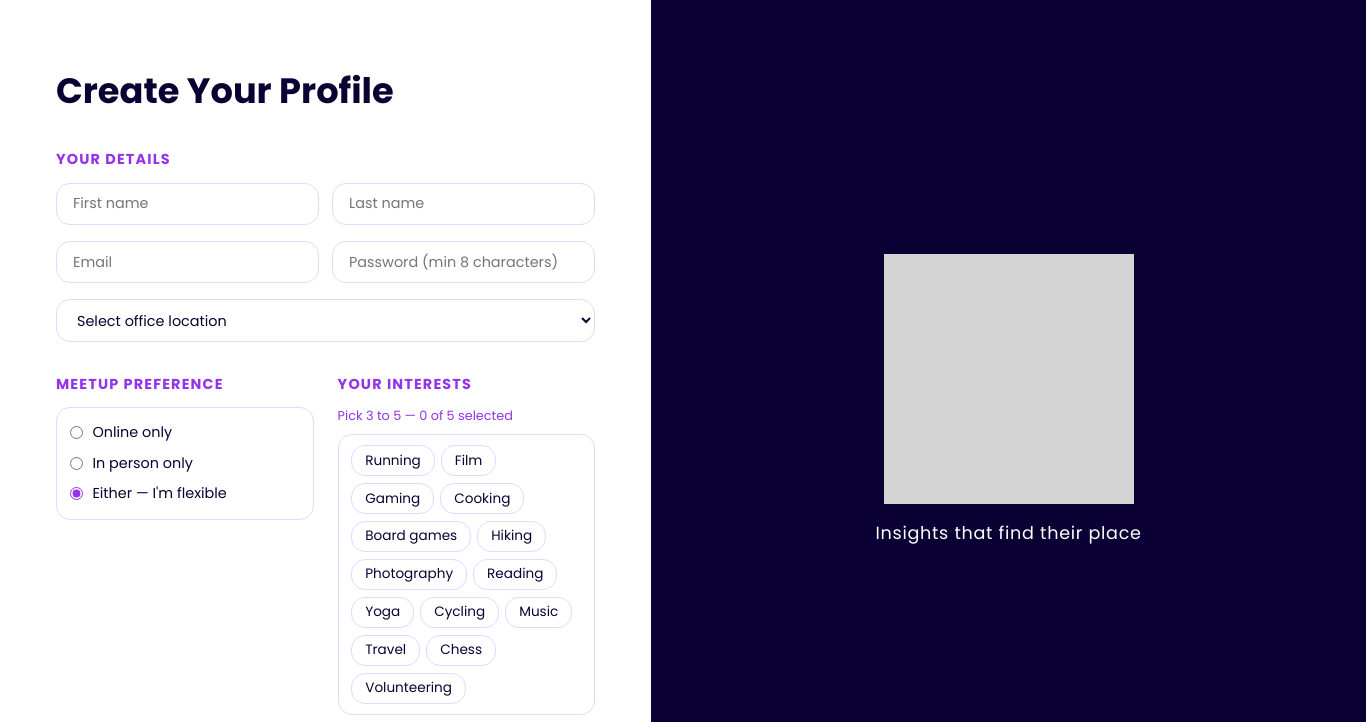
Test: SignUp component › shows error if email is invalid
Step 1. Type "John" into the field with placeholder "First name" → (188, 204), box [56,183,319,225]
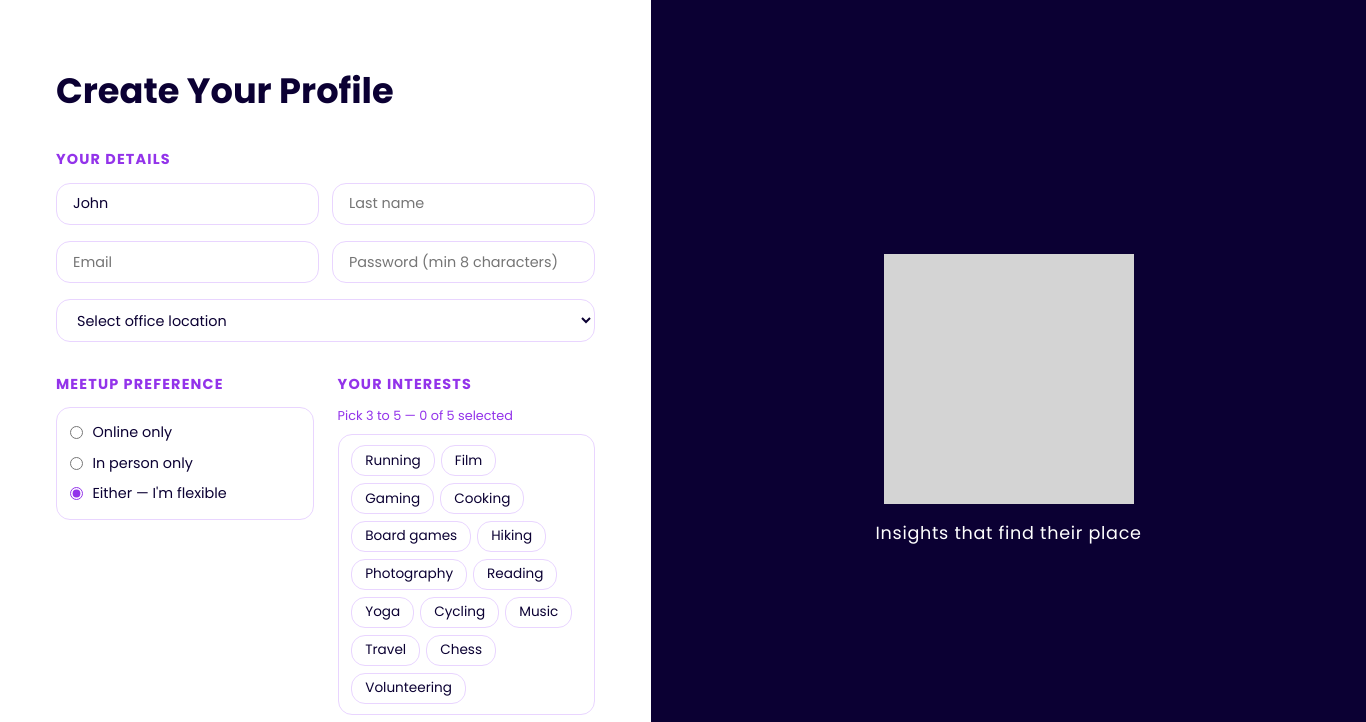
Step 2. Type "Doe" into the field with placeholder "Last name" → (464, 204), box [332,183,595,225]
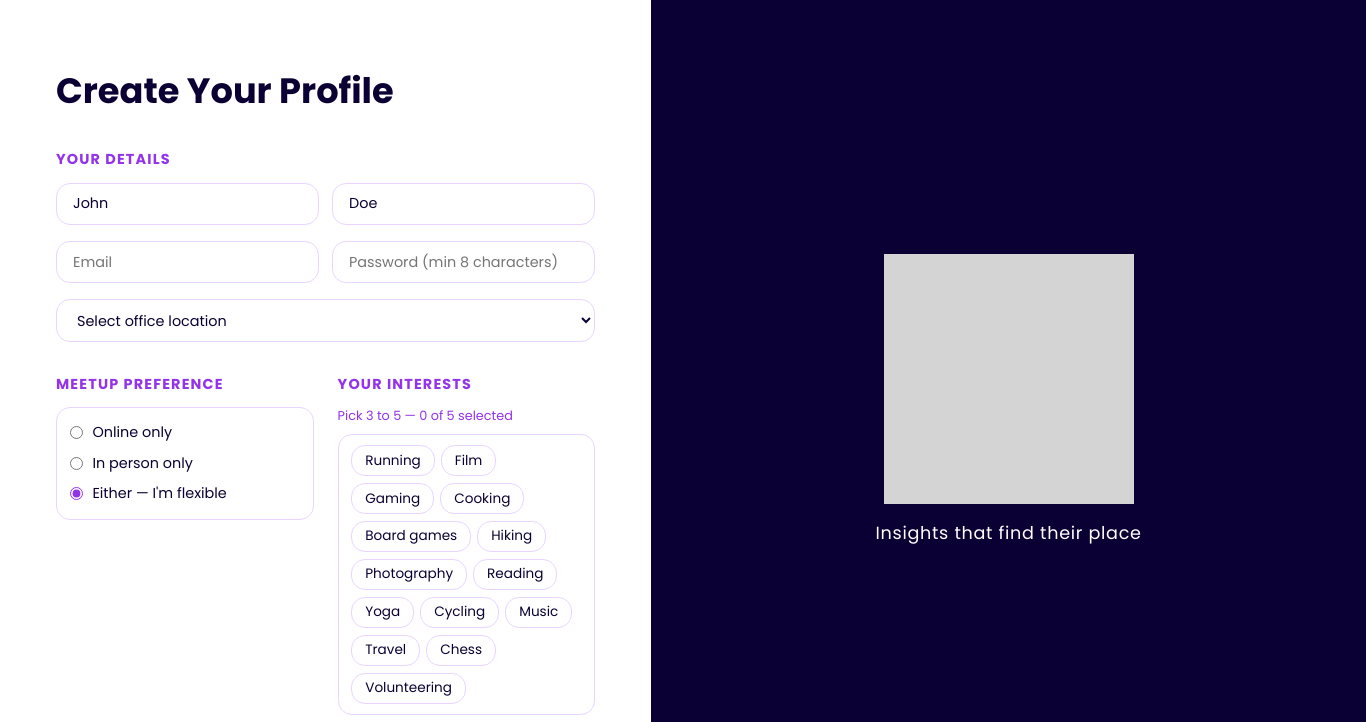
Step 3. Type "notanemail" into the field with placeholder "Email" → (188, 262), box [56,241,319,283]
(page scrolled)
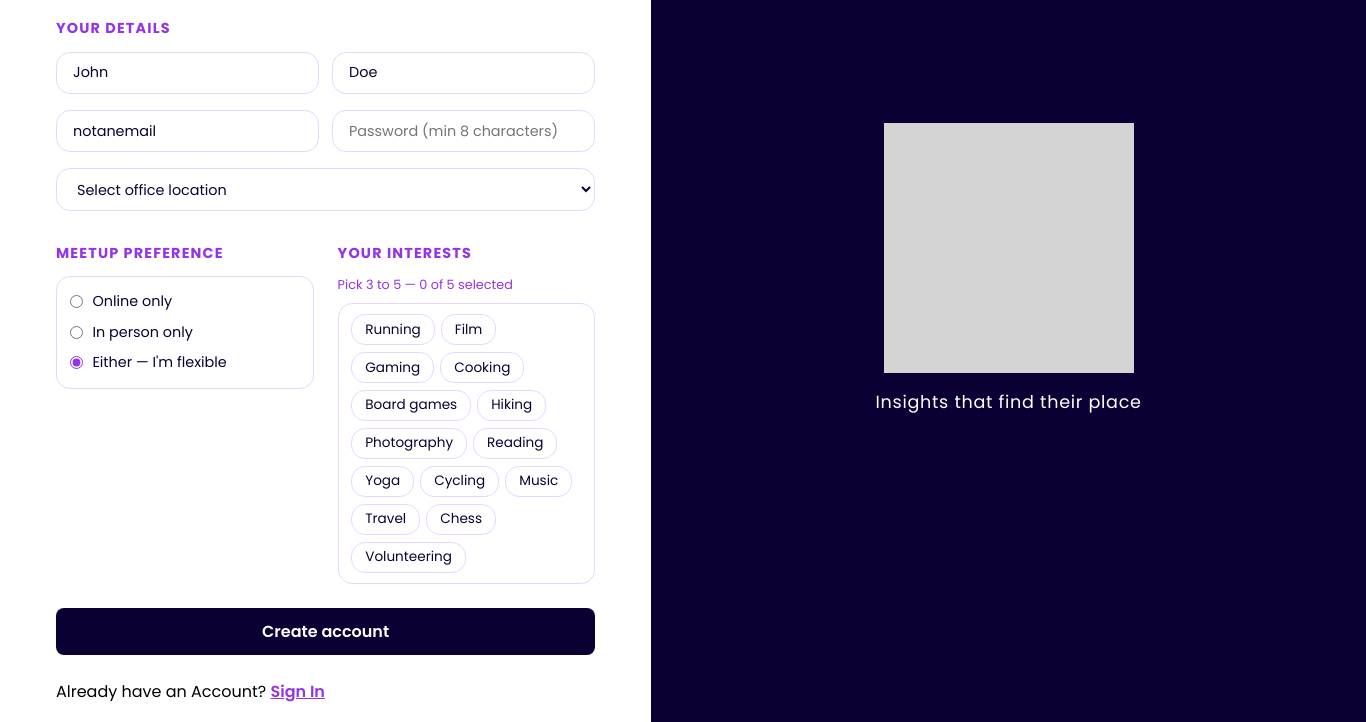
Step 4. Click the button "Create account" → (326, 632), box [56,608,595,655]
(page scrolled)
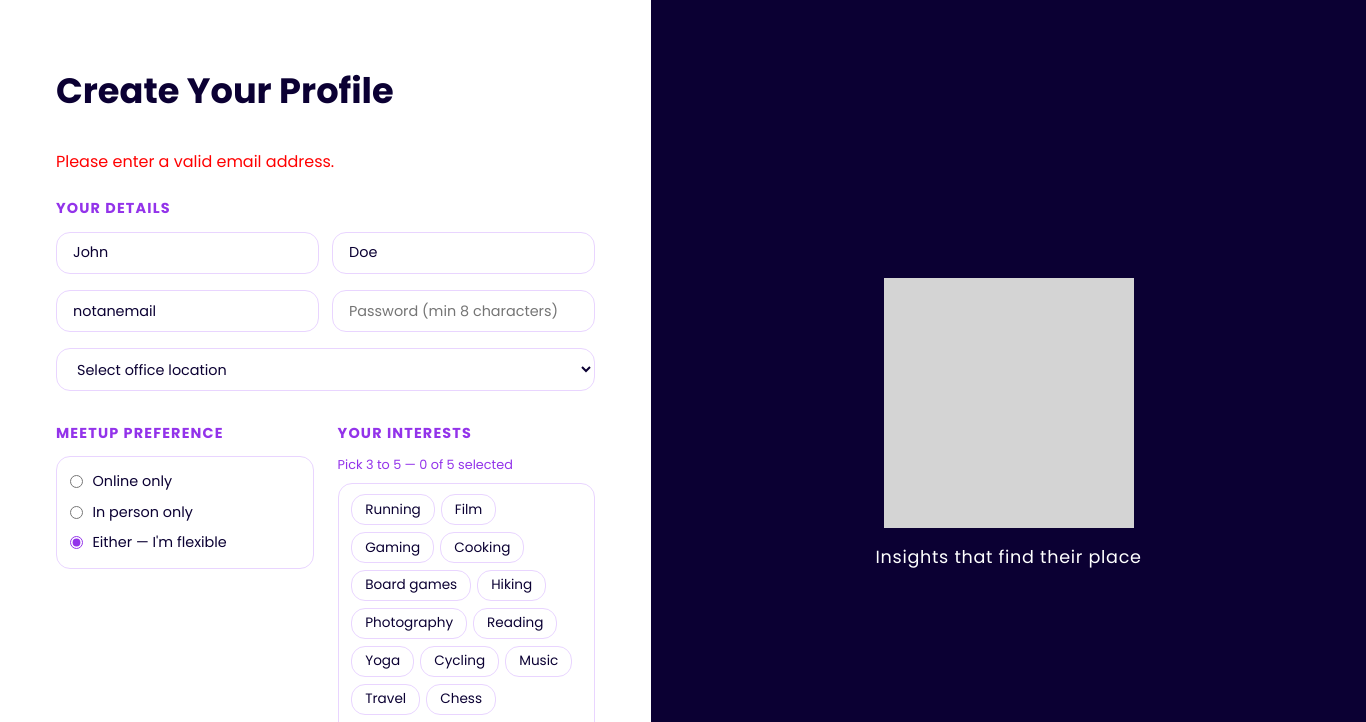
Now the text "Please enter a valid email address." is shown, box [56,150,334,173]
